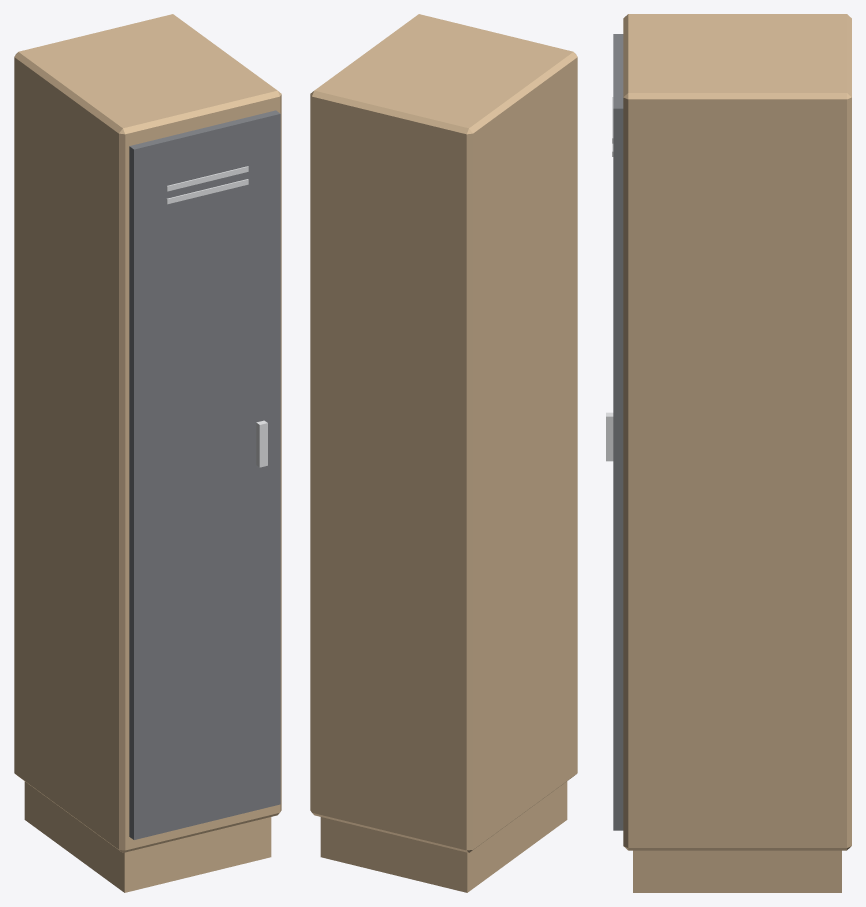
The model's file is locker.glb.
3 renders of one model, left to right at view 1: azimuth 30°, elevation 25°; view 2: azimuth 150°, elevation 25°; view 3: azimuth 270°, elevation 25°, orthographic. The views are drawn at different scales.
Visible parts, largest first — view 1: locker; view 2: locker; view 3: locker.
Boxes of the visible parts, x1,y1,x2,y2 form: locker: [14, 14, 281, 892]; locker: [310, 14, 577, 892]; locker: [606, 14, 851, 892].
Size of the model in its own units: 0.4 by 1.8 by 0.5.
